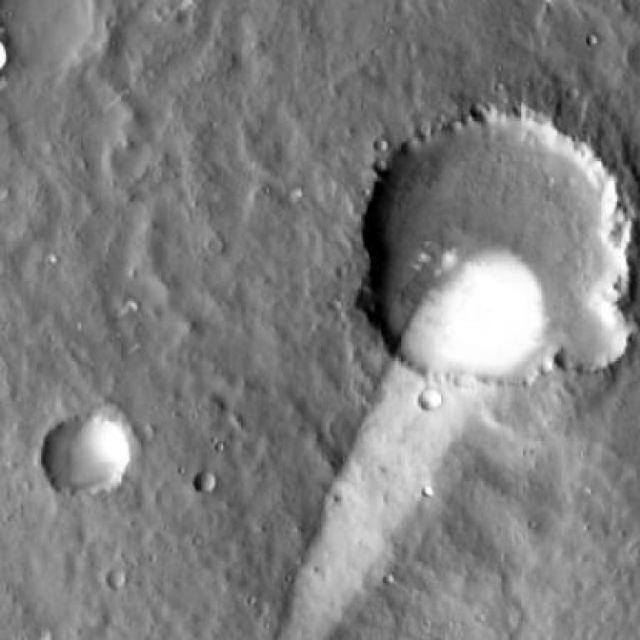crater: (356, 110, 632, 382), (0, 0, 100, 83), (40, 413, 131, 502), (553, 297, 632, 375), (193, 474, 216, 498), (420, 392, 442, 413), (101, 568, 119, 587)
